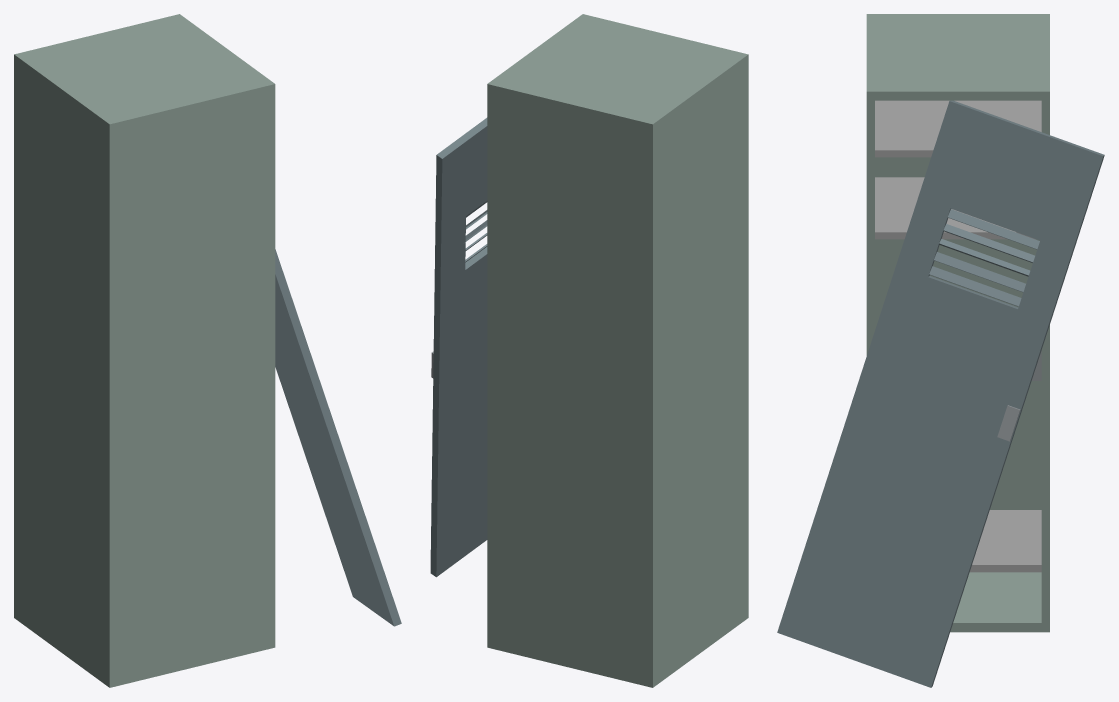
File: Locker Broken .fbx
3 renders of one model, left to right at view 1: azimuth 30°, elevation 25°; view 2: azimuth 150°, elevation 25°; view 3: azimuth 270°, elevation 25°, orthographic. The views are drawn at different scales.
Parts seen in each view (by area): view 1: pCube78; view 2: pCube78; view 3: pCube78.
Part boxes in pixels (x1,y1,x2,y2): pCube78: (14,14,401,687); pCube78: (430,14,748,687); pCube78: (777,14,1104,687).
Size of the model in its own units: 0.8754 by 1.66 by 0.9106.
